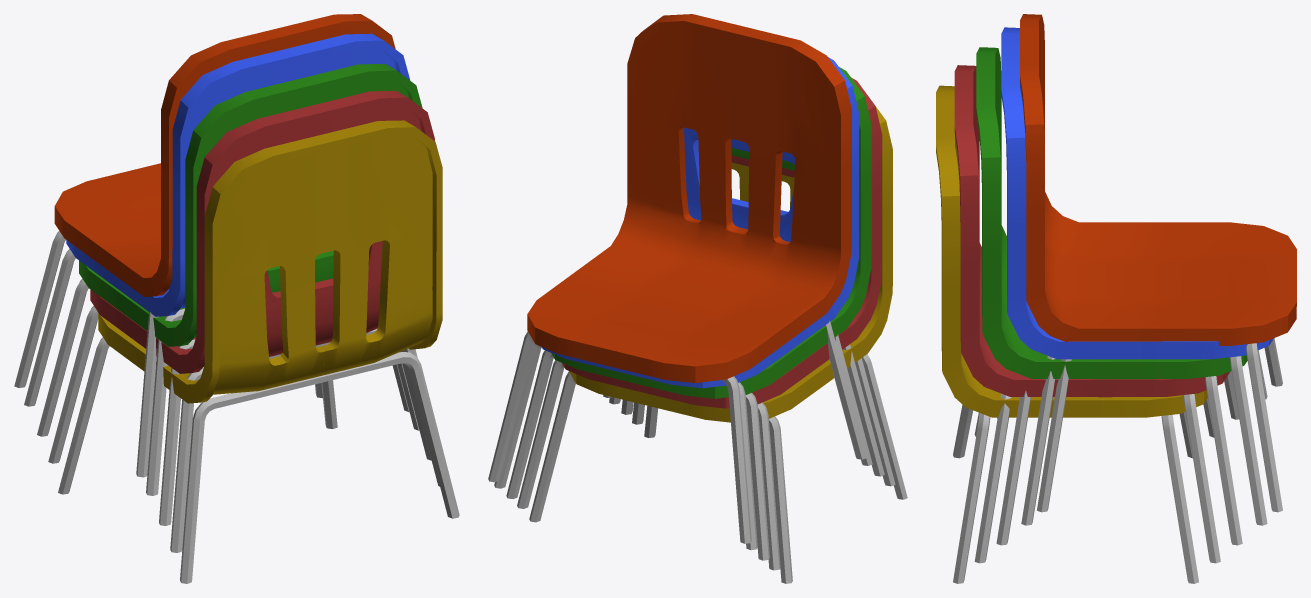
The model's file is Chair_Plastic_Stack.glb.
The picture shows the model from 3 angles, left to right: view 1: azimuth 30°, elevation 25°; view 2: azimuth 150°, elevation 25°; view 3: azimuth 270°, elevation 25°; orthographic projection. The views are drawn at different scales.
Visible parts, largest first — view 1: Mesh_Chair_Plastic_Stack; view 2: Mesh_Chair_Plastic_Stack; view 3: Mesh_Chair_Plastic_Stack.
Boxes of the visible parts, x1,y1,x2,y2 form: Mesh_Chair_Plastic_Stack: (14, 14, 459, 583); Mesh_Chair_Plastic_Stack: (488, 14, 907, 583); Mesh_Chair_Plastic_Stack: (936, 14, 1296, 583).
Bounding box in the file's own units: 0.593 × 0.9906 × 0.6879.
Materials: 1 (1 with a texture image).
